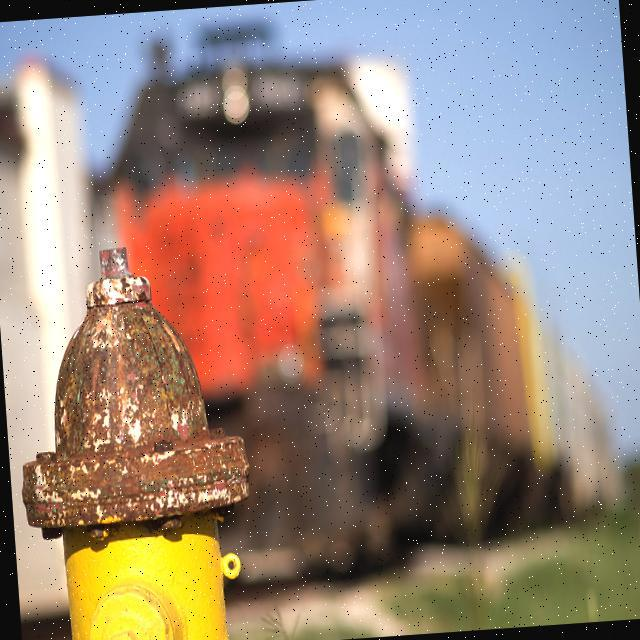fire_hydrant: (3, 238, 261, 640)
